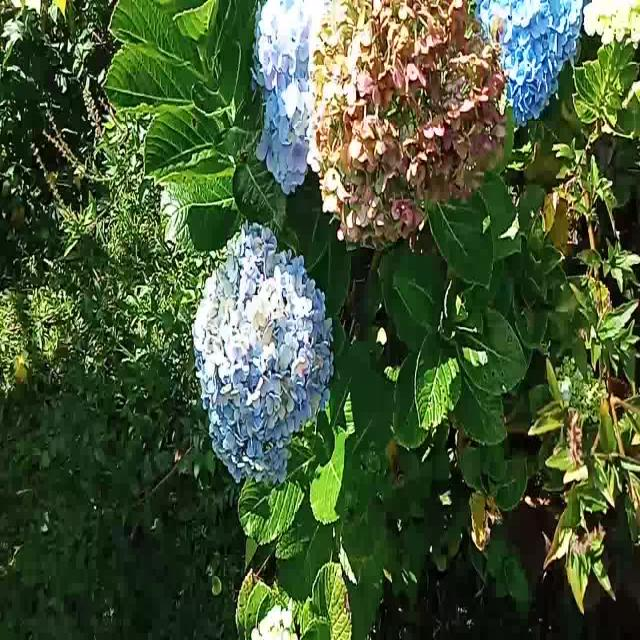Flower: (194, 223, 330, 483)
